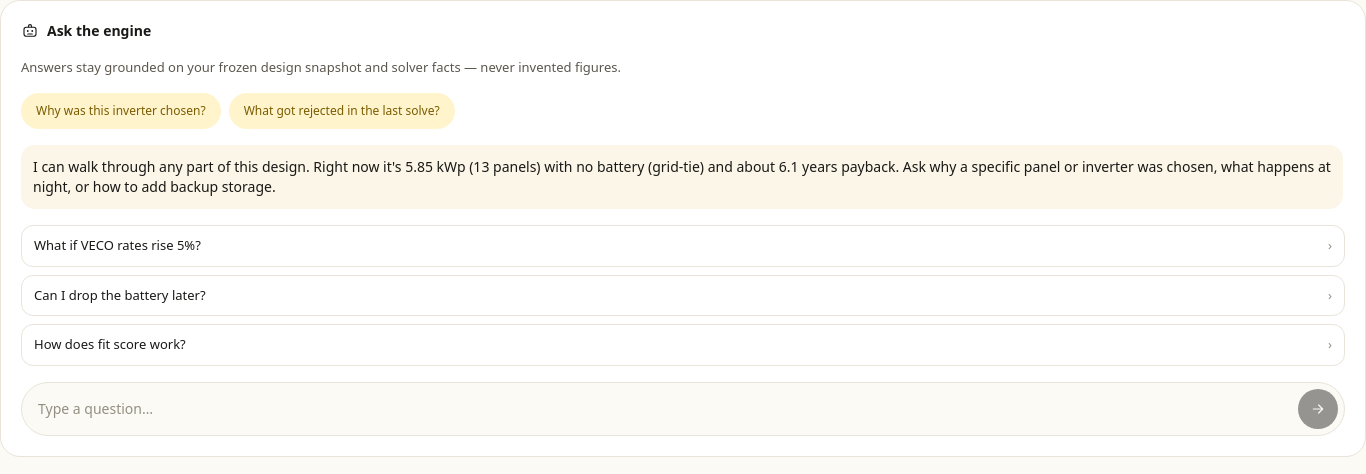
Test case: AskEngineSidebar › answers hypothetical questions through explain
Click the button "Can I drop the battery later? ›": (120, 294) [21,274,1345,316]
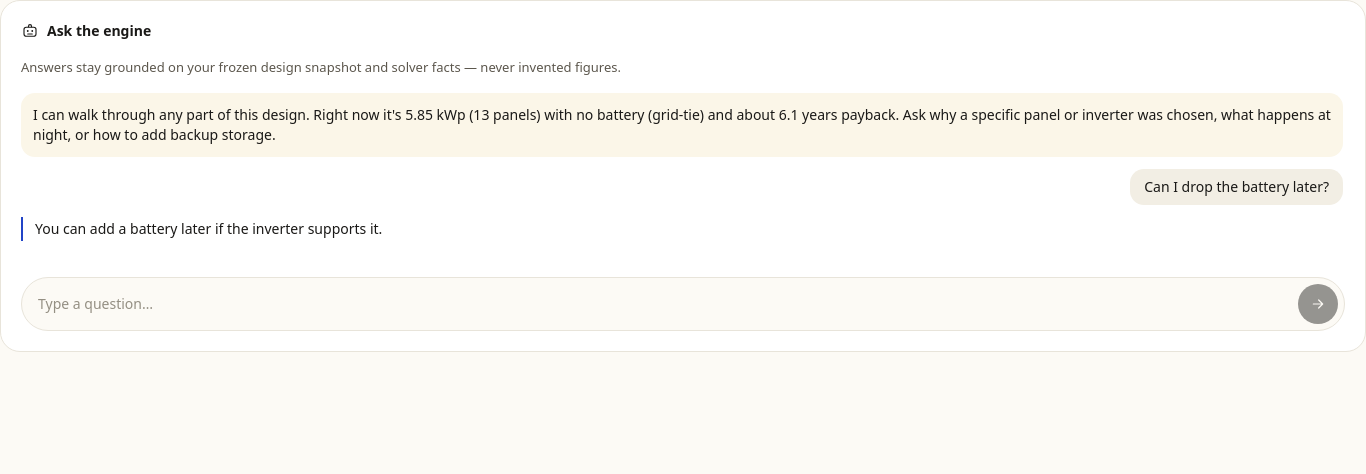
Result: the text "You can add a battery later if the inverter supports it." is shown at [21,217,1343,241]
